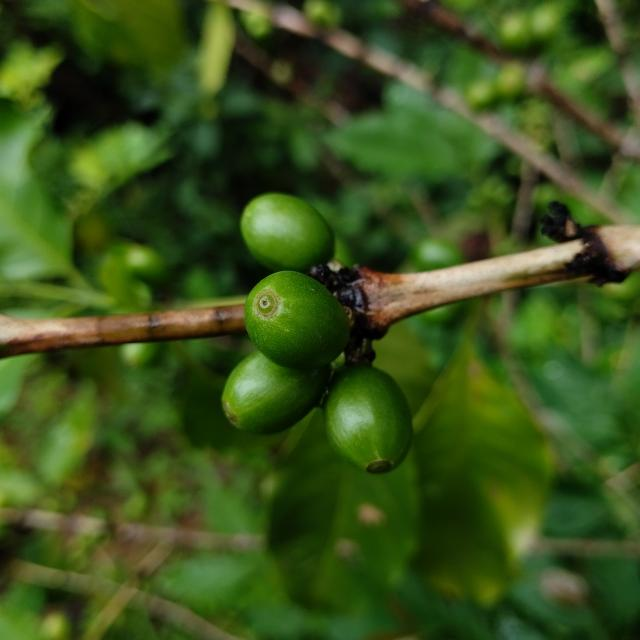green: (244, 271, 350, 370), (324, 365, 413, 474), (221, 351, 331, 435), (221, 351, 331, 435), (240, 192, 335, 272)
